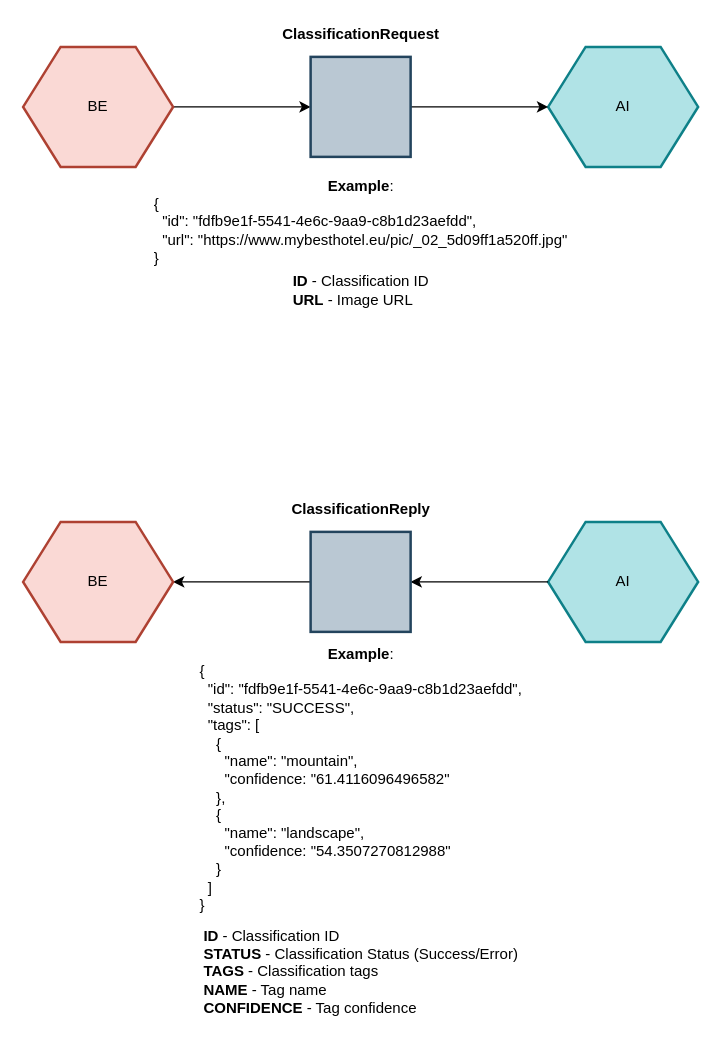
Image size: 720x1043. Some labels were removed from this diagram. The centre of each missing label's shape, as x and y in pixels:
ID STATUS TAGS: point 360,581
ID URL: point 360,106
